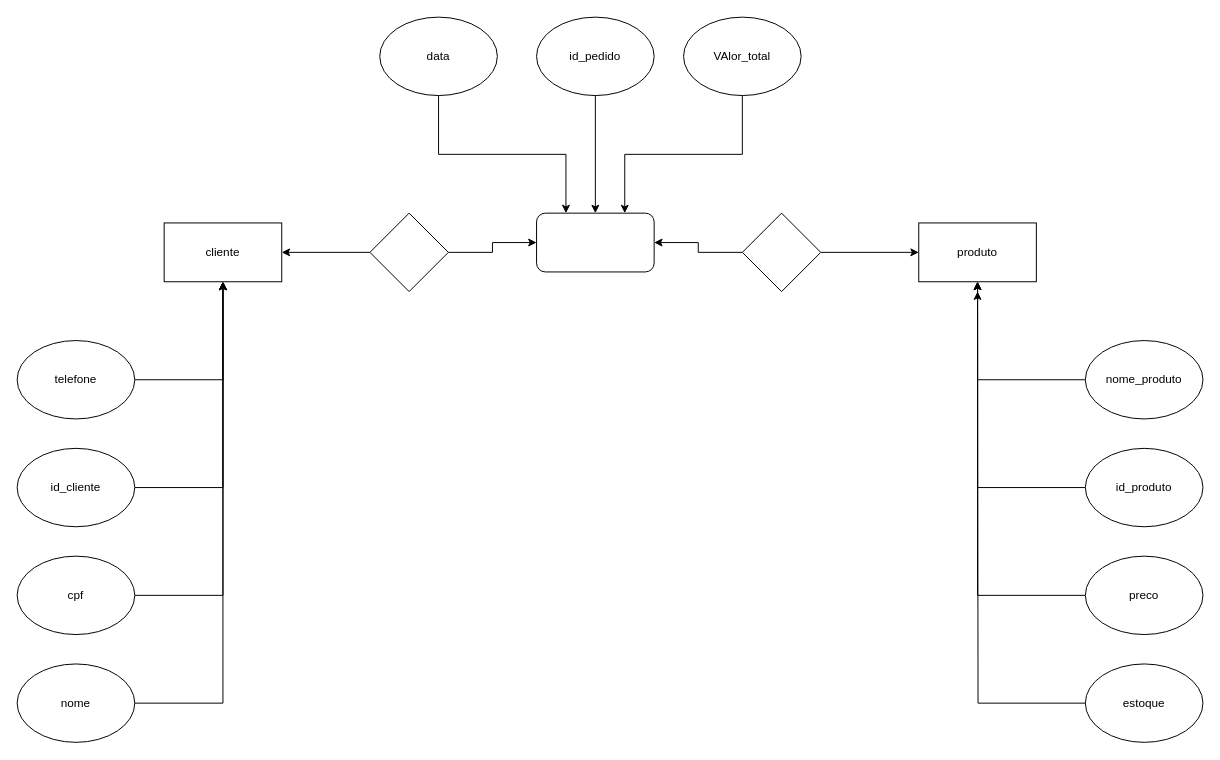
The diagram is 1220 pixels wide and 760 high, and some of its shapes have lost their labels. The centre of each missing label's shape, as x and y in pixels:
"contem" goes at pixel 781 252.
"pedido" goes at pixel 595 242.
"realizza" goes at pixel 408 252.
